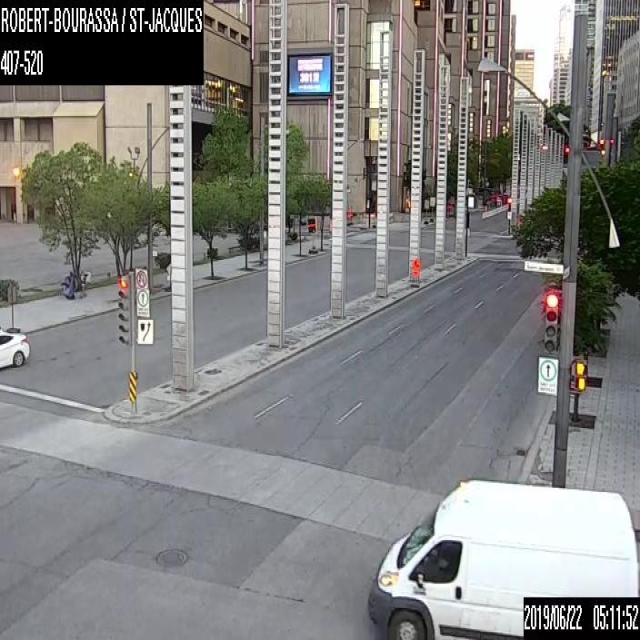construction: (411, 255, 421, 287)
vehicle: (367, 477, 639, 639), (520, 592, 639, 639), (0, 327, 29, 369)
